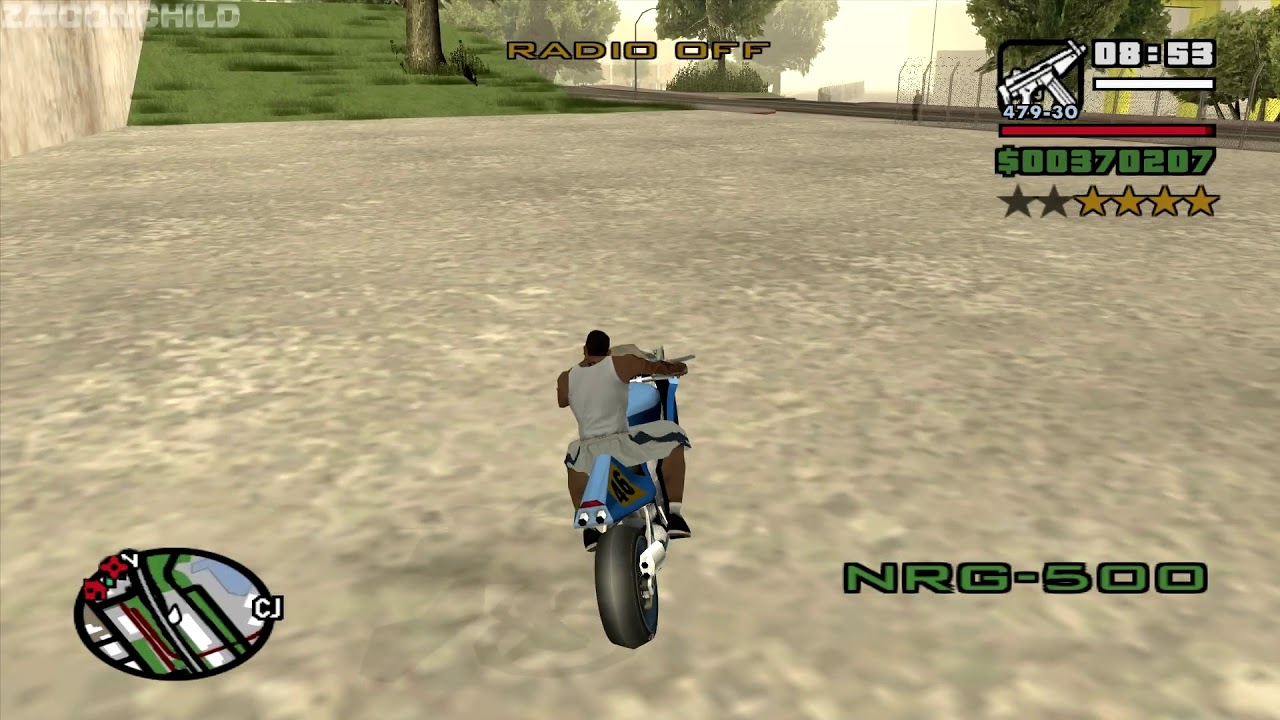bike: (555, 392, 692, 649)
